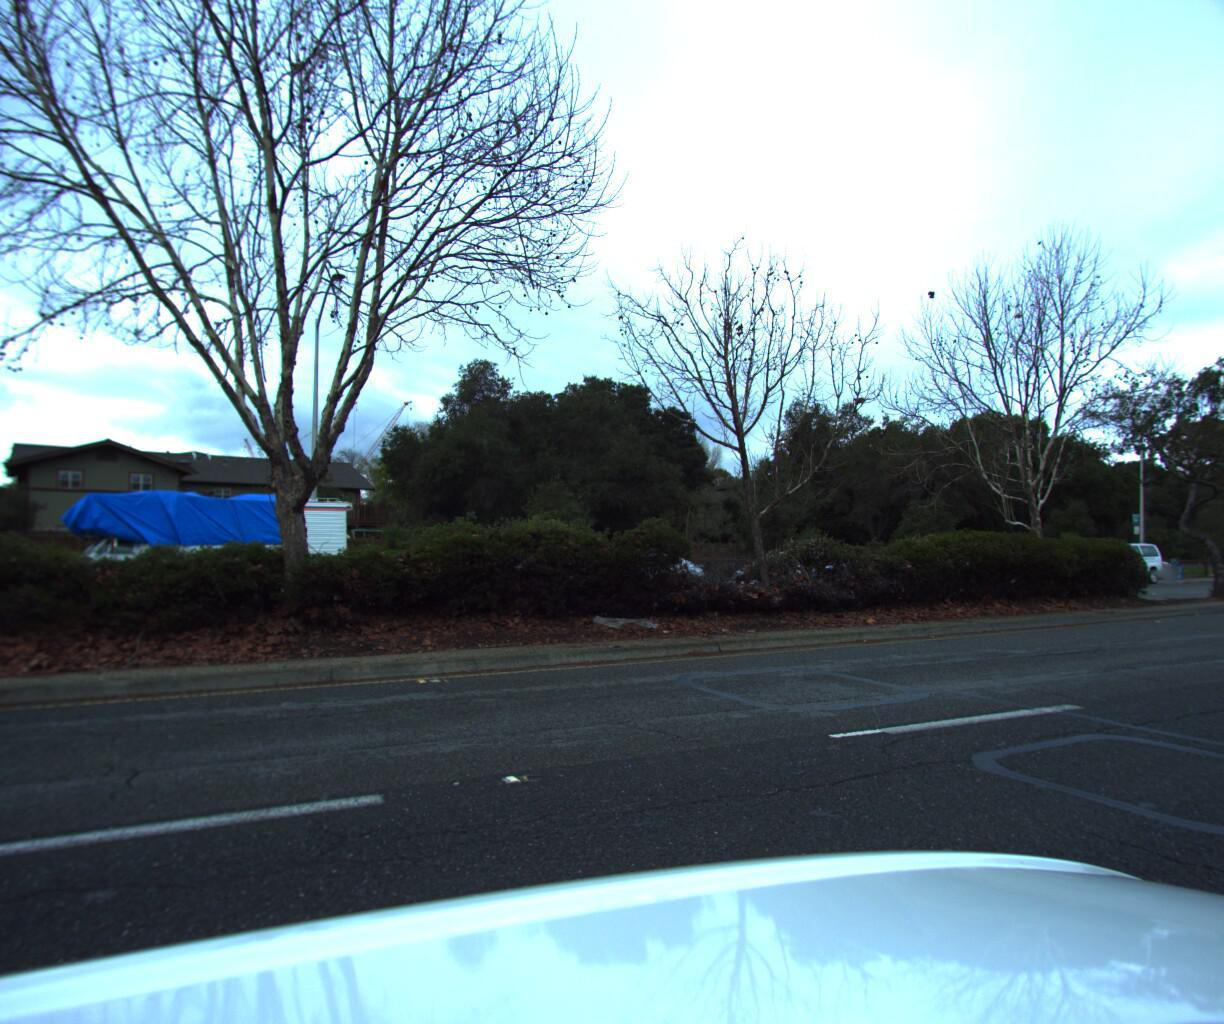car: (1056, 534, 1160, 580)
other_vehicle: (40, 477, 365, 616)
